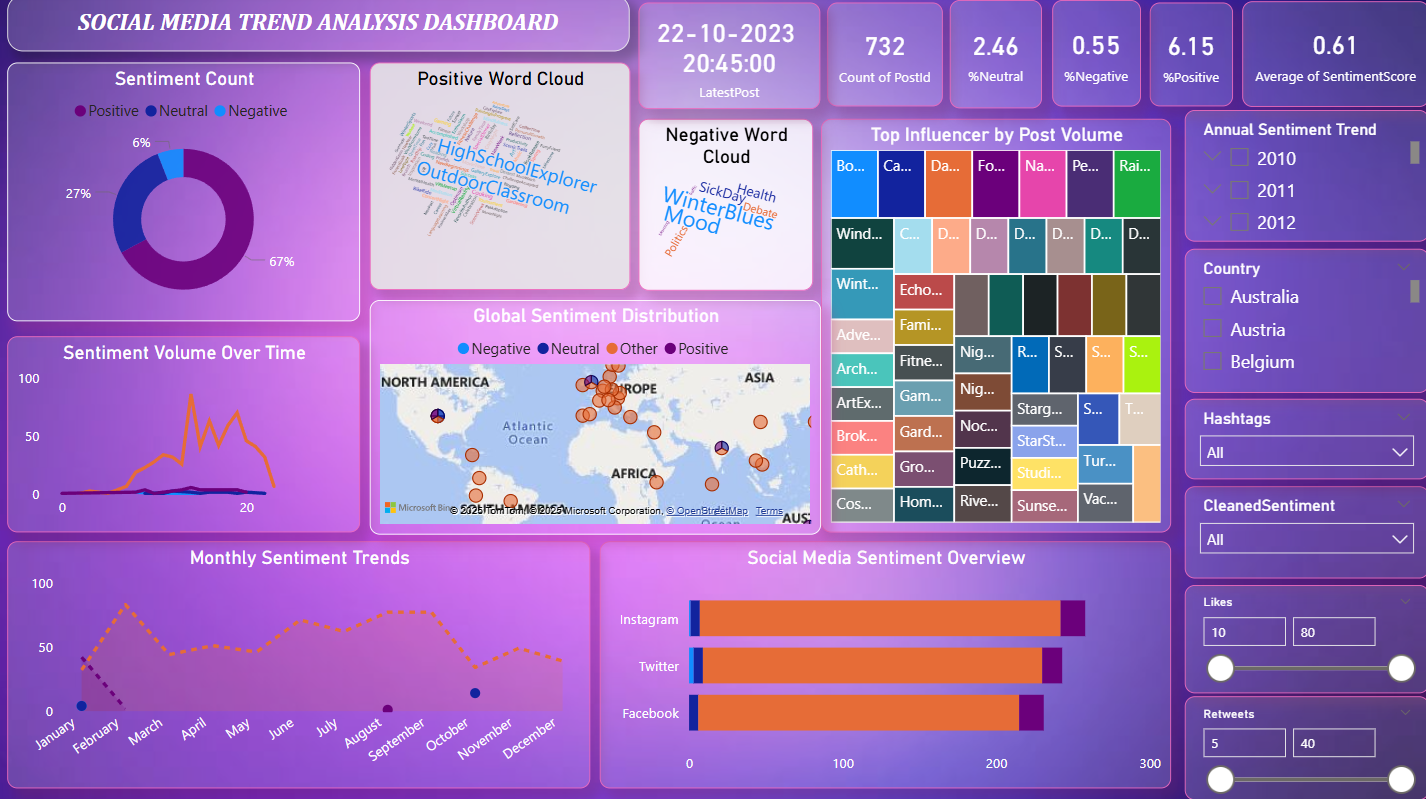

Layout of this report page (visuals, bound fields, positions):
{"tool":"powerbi","page":{"name":"Page 1","canvas":[1280,720],"ordinal":0},"visuals":[{"type":"textbox","box":[10.5,0,555.8,50],"z":0},{"type":"donutChart","title":"Sentiment Count","fields":{"Category":["sentimentdataset.CleanedSentiment"],"Y":["sentimentdataset.User_Id"]},"box":[10.5,60.5,315.1,231.4],"z":1000},{"type":"areaChart","title":"Monthly Sentiment Trends","fields":{"Category":["sentimentdataset.Timestamp.Variation.Date Hierarchy.Month"],"Series":["sentimentdataset.CleanedSentiment"],"Y":["sentimentdataset.CleanedSentiment"]},"box":[10.5,488.4,520.9,220.9],"z":2000},{"type":"WordCloud1447959067750","title":"Positive Word Cloud","fields":{"Category":["sentimentdataset.Hashtags"],"Values":["sentimentdataset.User_Id"]},"box":[333.7,60.5,232.6,203.5],"z":3000},{"type":"WordCloud1447959067750","title":"Negative Word Cloud","fields":{"Category":["sentimentdataset.Hashtags"],"Values":["sentimentdataset.User_Id"]},"box":[574.4,110.5,155.8,153.5],"z":4000},{"type":"barChart","title":"Social Media Sentiment Overview","fields":{"Category":["sentimentdataset.Platform"],"Series":["sentimentdataset.CleanedSentiment"],"Y":["sentimentdataset.User_Id"]},"box":[539.5,488.4,510.5,220.9],"z":6000},{"type":"lineChart","title":"Sentiment Volume Over Time","fields":{"Category":["sentimentdataset.Hour"],"Series":["sentimentdataset.CleanedSentiment"],"Y":["sentimentdataset.User_Id"]},"box":[10.5,304.7,315.1,175.6],"z":7000},{"type":"treemap","title":"Top Influencer by Post Volume","fields":{"Group":["sentimentdataset.User"],"Values":["sentimentdataset.PostId"]},"box":[737.2,110.5,312.8,369.8],"z":8000},{"type":"card","fields":{"Values":["sentimentdataset.PostId"]},"box":[743,7,103.5,93],"z":9000},{"type":"card","fields":{"Values":["sentimentdataset.%Neutral"]},"box":[852.3,4.7,82.6,96.5],"z":11000},{"type":"card","fields":{"Values":["sentimentdataset.%Positive"]},"box":[1030.2,7,74.4,93],"z":13000},{"type":"card","fields":{"Values":["sentimentdataset.%Negative"]},"box":[943,4.7,79.1,95.3],"z":14000},{"type":"card","fields":{"Values":["sentimentdataset.LatestPost"]},"box":[574.4,7,162.8,95.3],"z":15000},{"type":"card","fields":{"Values":["sentimentdataset.SentimentScore"]},"box":[1112.8,5.8,167.4,94.2],"z":16000},{"type":"slicer","fields":{"Values":["sentimentdataset.Timestamp.Variation.Date Hierarchy.Year","sentimentdataset.Timestamp.Variation.Date Hierarchy.Quarter","sentimentdataset.Timestamp.Variation.Date Hierarchy.Month","sentimentdataset.Timestamp.Variation.Date Hierarchy.Day"]},"box":[1061.6,102.3,218.6,117.4],"z":17000},{"type":"slicer","fields":{"Values":["sentimentdataset.CleanedSentiment"]},"box":[1061.6,438.4,218.6,82.6],"z":18000},{"type":"slicer","fields":{"Values":["sentimentdataset.Country"]},"box":[1061.6,226.7,218.6,129.1],"z":19000},{"type":"slicer","fields":{"Values":["sentimentdataset.Likes"]},"box":[1061.6,526.7,218.6,96.5],"z":20000},{"type":"slicer","fields":{"Values":["sentimentdataset.Retweets"]},"box":[1061.6,626.7,218.6,93],"z":21000},{"type":"slicer","fields":{"Values":["sentimentdataset.Hashtags"]},"box":[1061.6,360.5,218.6,72.1],"z":22000},{"type":"map","title":"Global Sentiment Distribution","fields":{"Category":["sentimentdataset.Country"],"Series":["sentimentdataset.CleanedSentiment"]},"box":[333.7,272.1,403.5,209.3],"z":22001}]}

Visuals, with their boxes in screenshot pixels (x1, y1, x2, y2), scaled from the page's 1280x720 canvas onto the 1426x799 screenshot:
textbox: l=12, t=0, r=631, b=55
"Sentiment Count" donutChart: l=12, t=67, r=363, b=324
"Monthly Sentiment Trends" areaChart: l=12, t=542, r=592, b=787
"Positive Word Cloud" WordCloud1447959067750: l=372, t=67, r=631, b=293
"Negative Word Cloud" WordCloud1447959067750: l=640, t=123, r=813, b=293
"Social Media Sentiment Overview" barChart: l=601, t=542, r=1170, b=787
"Sentiment Volume Over Time" lineChart: l=12, t=338, r=363, b=533
"Top Influencer by Post Volume" treemap: l=821, t=123, r=1170, b=533
card - sentimentdataset.PostId: l=828, t=8, r=943, b=111
card - sentimentdataset.%Neutral: l=950, t=5, r=1042, b=112
card - sentimentdataset.%Positive: l=1148, t=8, r=1231, b=111
card - sentimentdataset.%Negative: l=1051, t=5, r=1139, b=111
card - sentimentdataset.LatestPost: l=640, t=8, r=821, b=114
card - sentimentdataset.SentimentScore: l=1240, t=6, r=1425, b=111
slicer - sentimentdataset.Timestamp.Variation.Date Hierarchy.Year x sentimentdataset.Timestamp.Variation.Date Hierarchy.Quarter: l=1183, t=114, r=1425, b=244
slicer - sentimentdataset.CleanedSentiment: l=1183, t=487, r=1425, b=578
slicer - sentimentdataset.Country: l=1183, t=252, r=1425, b=395
slicer - sentimentdataset.Likes: l=1183, t=584, r=1425, b=692
slicer - sentimentdataset.Retweets: l=1183, t=695, r=1425, b=798
slicer - sentimentdataset.Hashtags: l=1183, t=400, r=1425, b=480
"Global Sentiment Distribution" map: l=372, t=302, r=821, b=534
